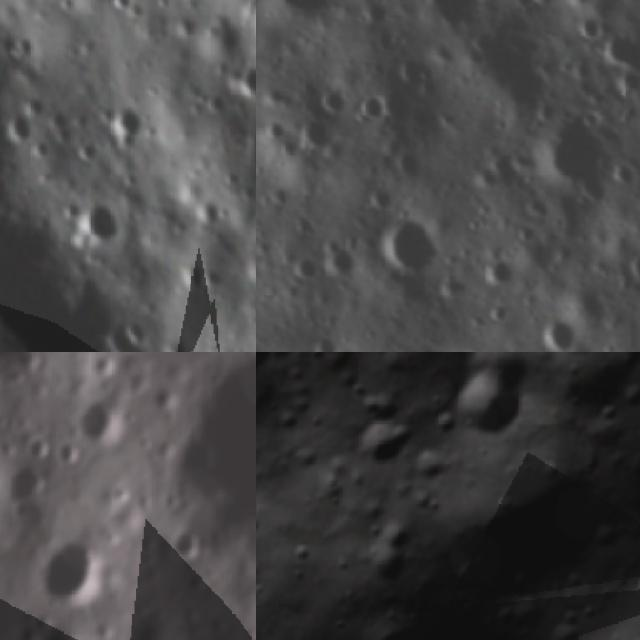crater: (438, 435, 619, 614), (171, 361, 256, 538), (429, 357, 537, 463), (522, 114, 620, 191), (351, 512, 432, 598), (344, 404, 422, 482), (35, 534, 103, 603), (450, 352, 541, 403), (349, 612, 493, 640), (496, 585, 559, 640), (349, 378, 408, 436), (379, 215, 441, 261), (595, 20, 640, 77), (3, 461, 48, 517), (281, 528, 330, 576), (76, 399, 124, 445), (110, 99, 140, 164), (165, 523, 206, 568), (536, 307, 581, 347), (94, 323, 151, 352), (536, 612, 590, 640), (88, 202, 114, 245), (256, 352, 286, 384), (55, 441, 91, 467), (256, 486, 274, 530), (33, 435, 56, 468), (236, 66, 256, 100), (626, 241, 640, 289), (627, 406, 640, 457), (7, 117, 28, 146), (46, 621, 77, 640), (98, 0, 132, 12)
